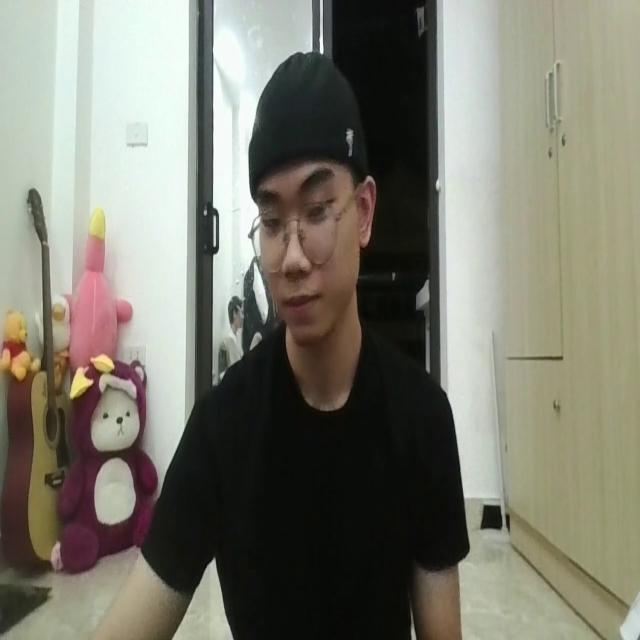student: (115, 50, 468, 640)
